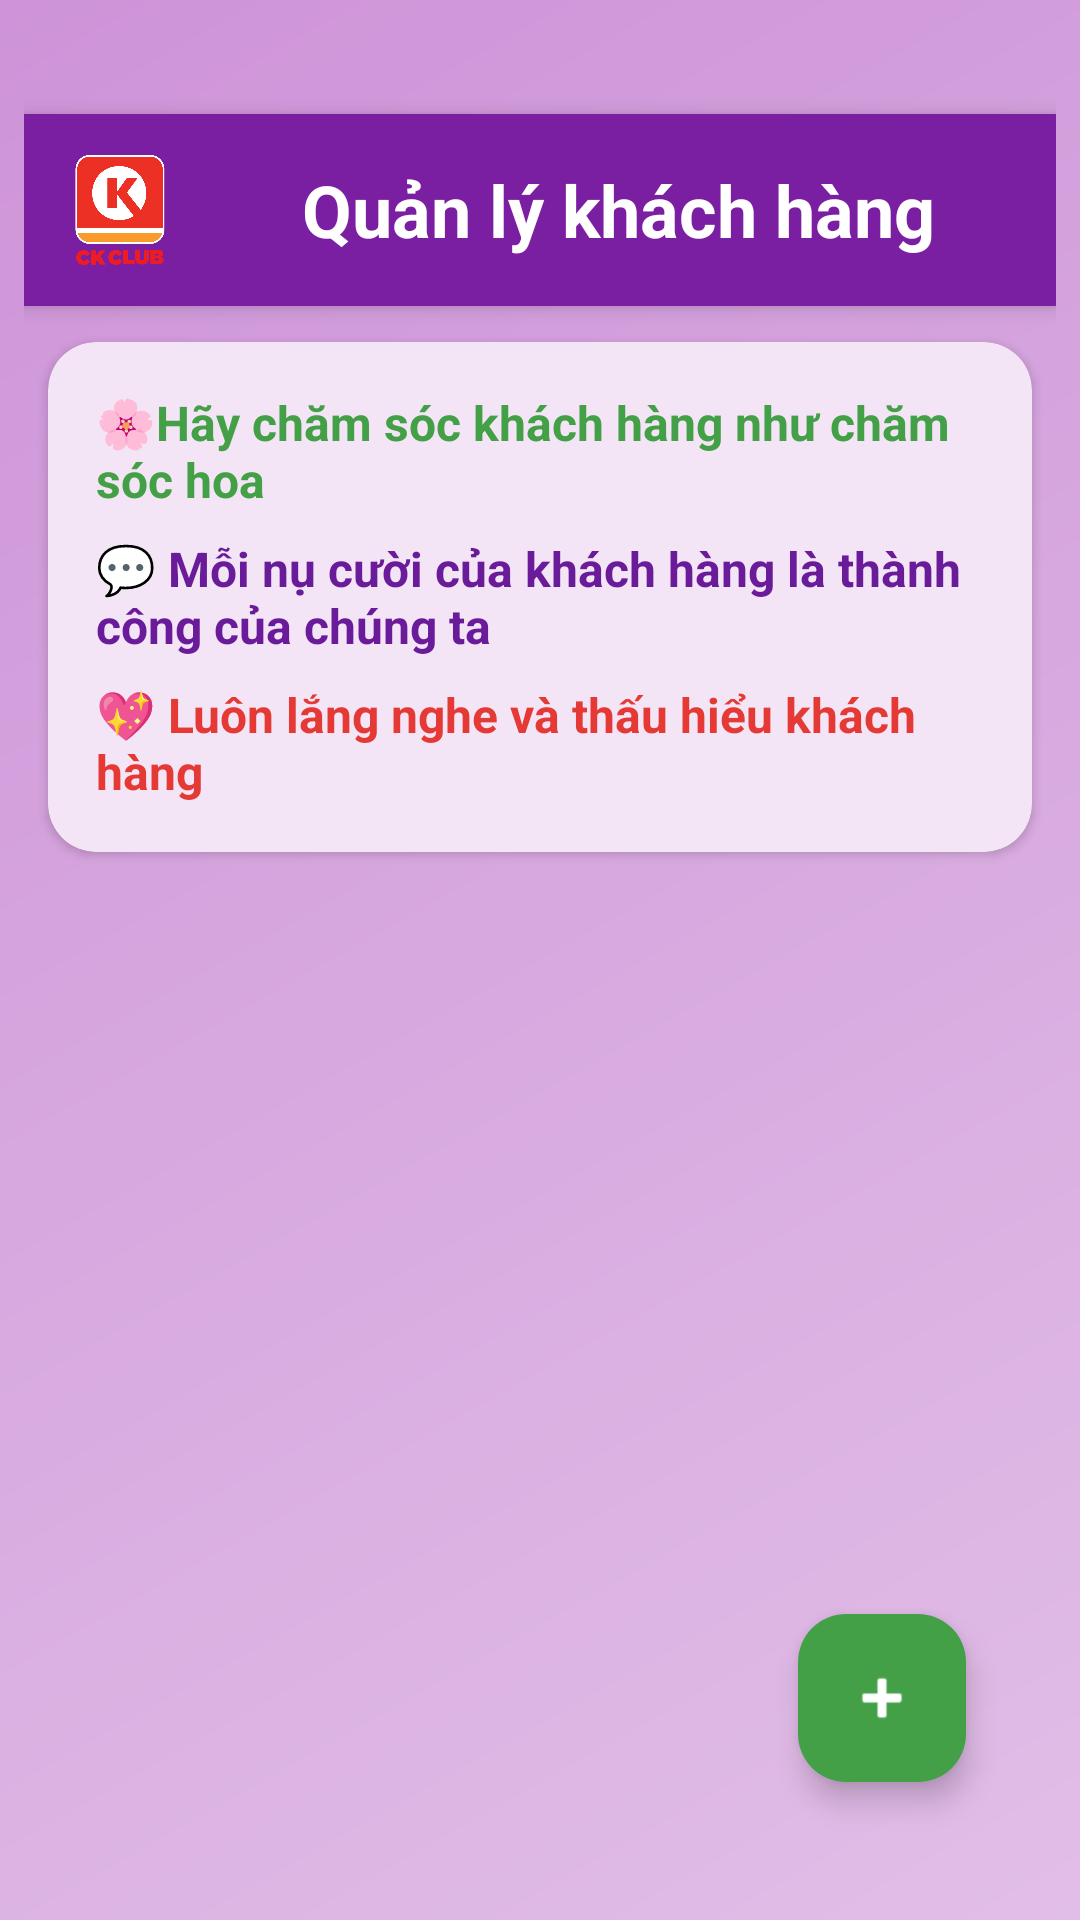

Icon click points for this 1080×1920 phone screenshot, format (x=x, y=y):
Thêm nhân viên mới: (x=882, y=1698)
